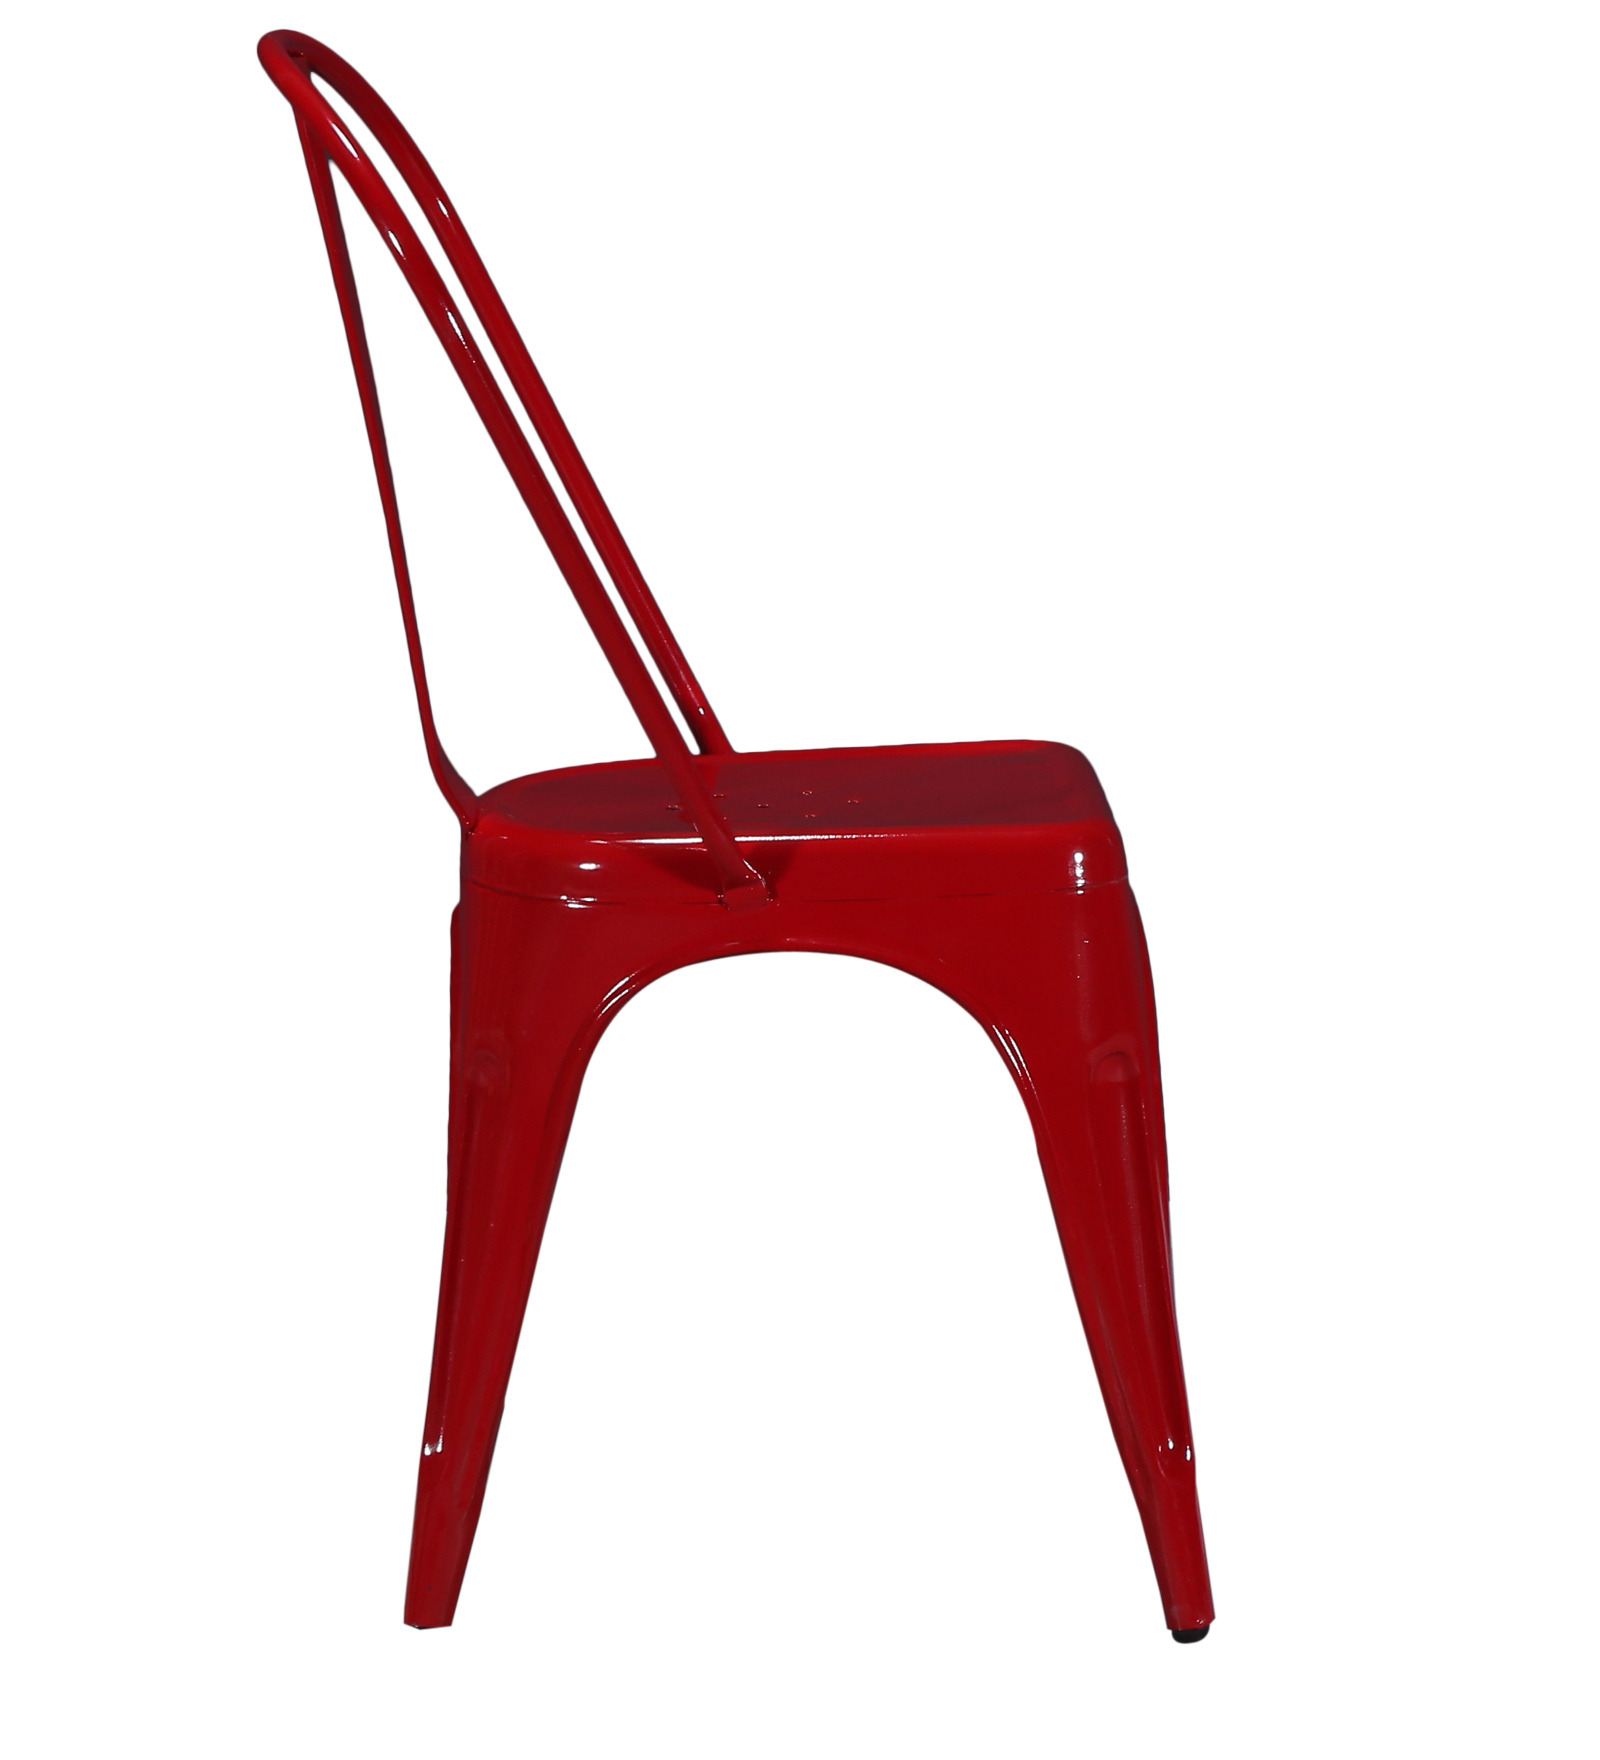Ekati Metal Chair in Red Color by Bohemiana: (187, 15, 1283, 1677)
